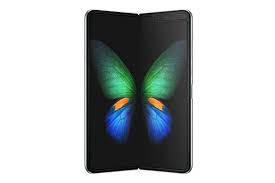huawei: (83, 7, 192, 176)
